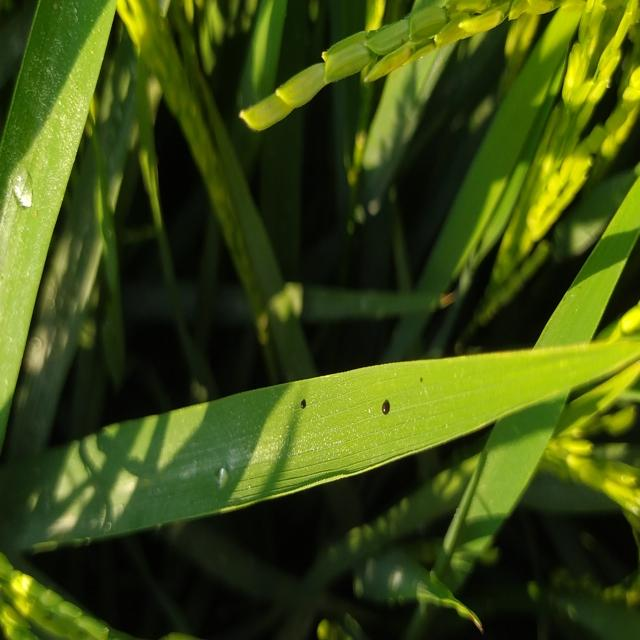healthy: (295, 395, 314, 412), (378, 398, 394, 418)
